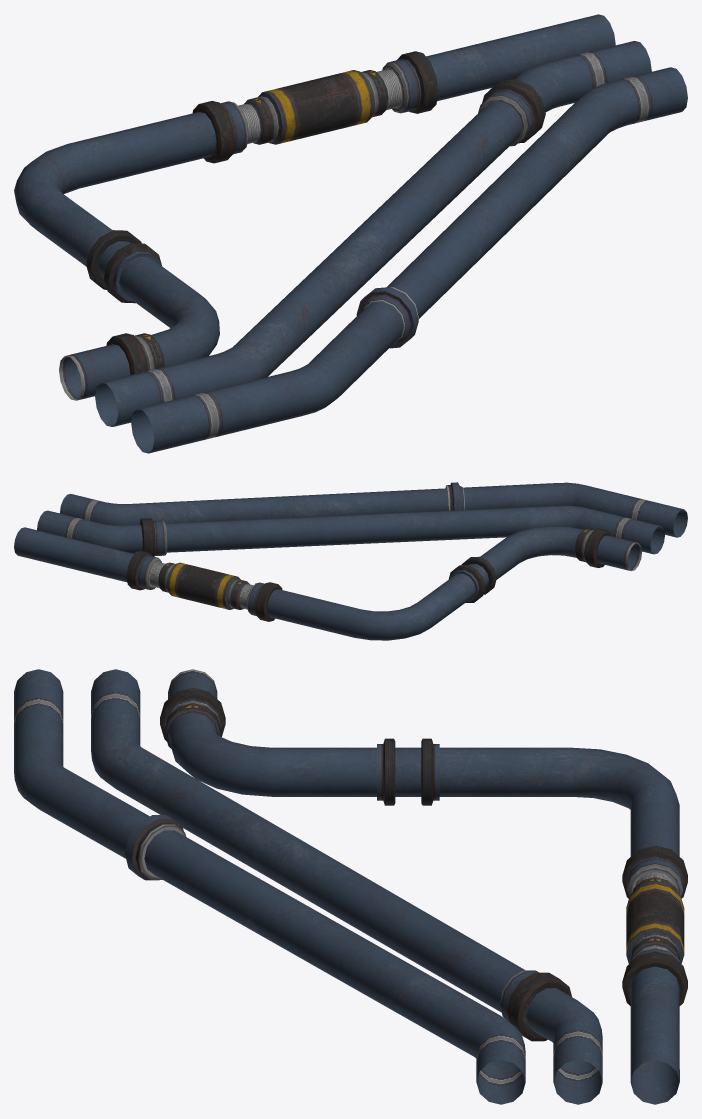
File: Pipe3_Courner5_L0.fbx
The picture shows the model from 3 angles, top to bottom: view 1: azimuth 30°, elevation 25°; view 2: azimuth 150°, elevation 25°; view 3: azimuth 270°, elevation 25°; orthographic projection. The views are drawn at different scales.
Visible parts, largest first — view 1: PIpe5_Courner4_L0; view 2: PIpe5_Courner4_L0; view 3: PIpe5_Courner4_L0.
Part boxes in pixels (box(x1,y1,x2,y2)): PIpe5_Courner4_L0: box(14, 14, 687, 453); PIpe5_Courner4_L0: box(14, 482, 687, 640); PIpe5_Courner4_L0: box(14, 669, 687, 1104).
Bounding box in the file's own units: 200 × 14.9 × 146.
